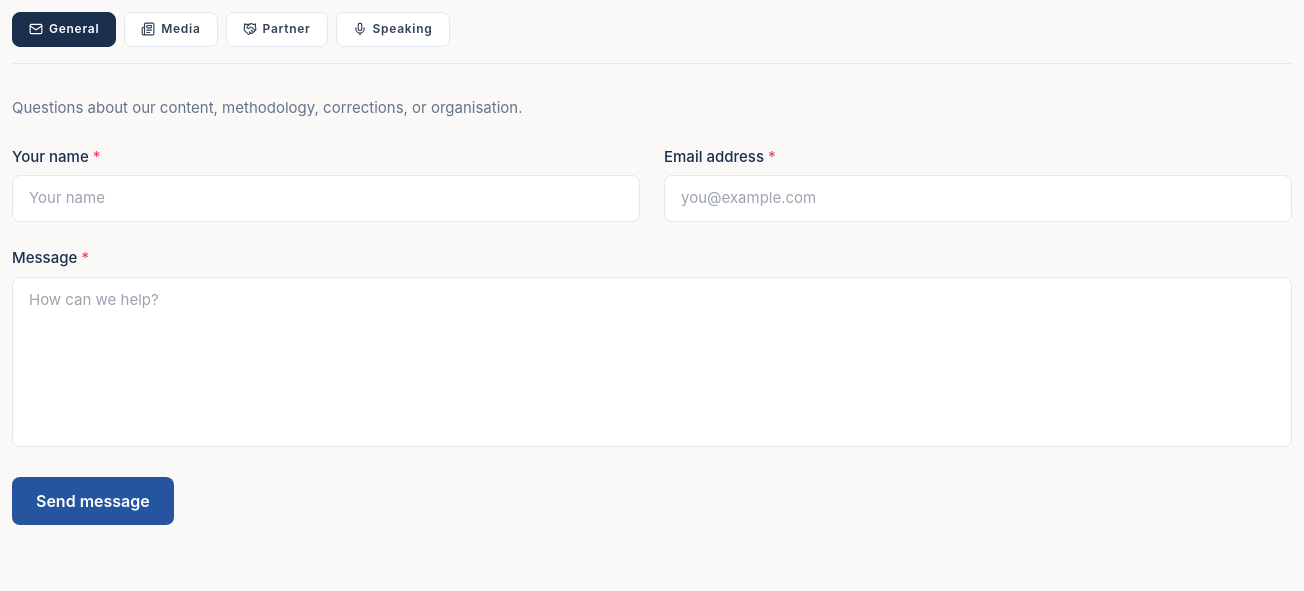
it: ContactForms › shows error state on failed submission
This screenshot has width=1304, height=591.
Type "Alice" into the field labelled "Your name*" at [326, 199], box [12,175,640,222]
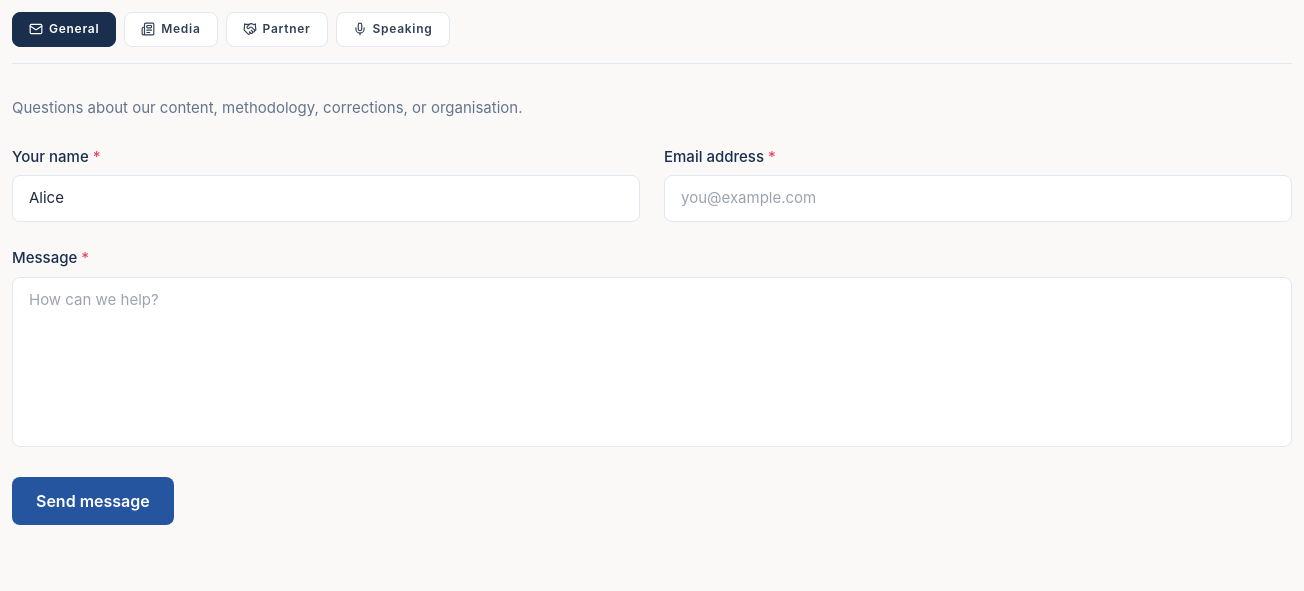
Type "alice@example.com" into the field labelled "Email address*" at [978, 199], box [664,175,1292,222]
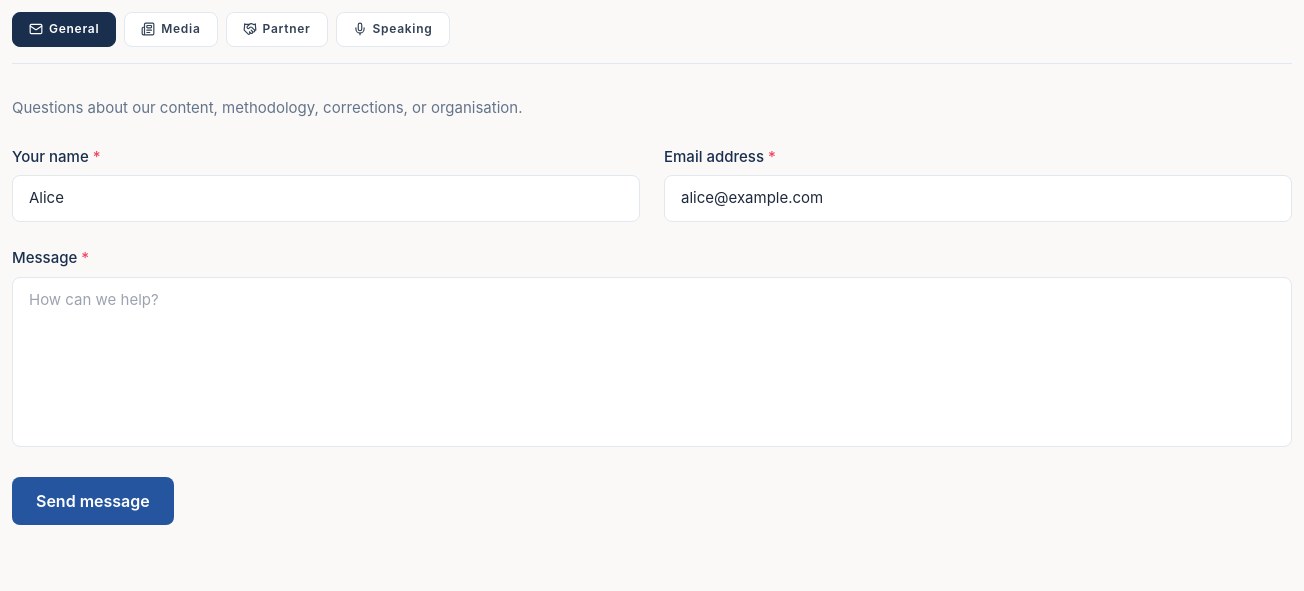
Type "Hello" into the text box labelled "Message*" at [652, 362], box [12,277,1292,447]
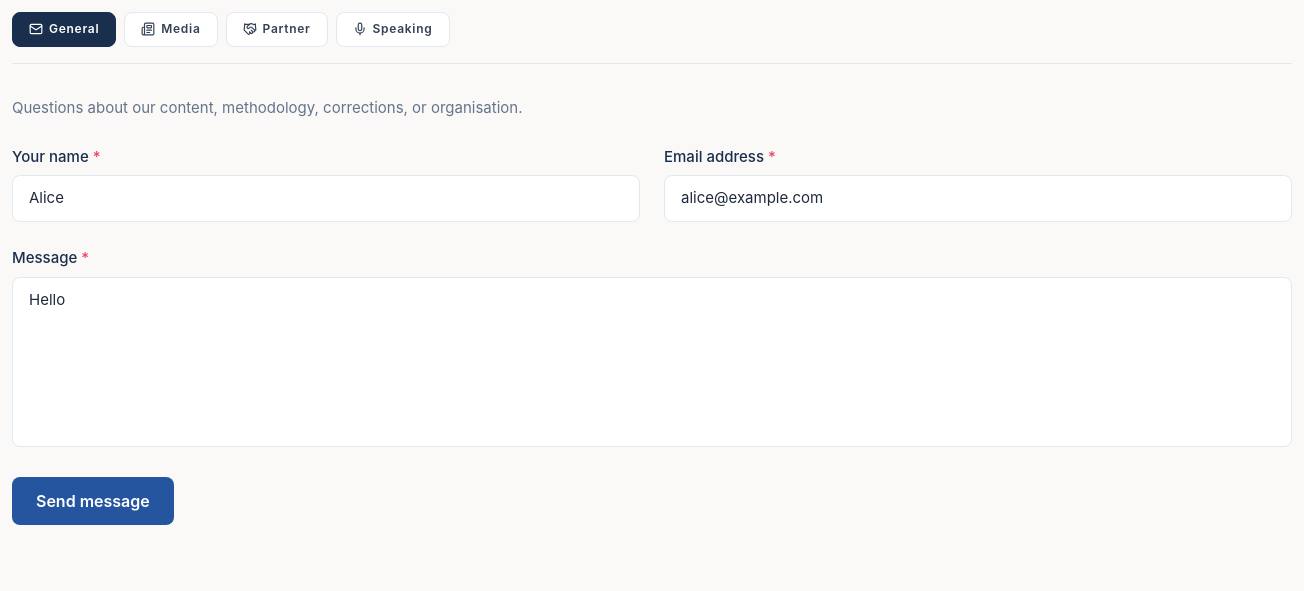
Click the button "Send message" at [93, 501], box [12,477,174,525]
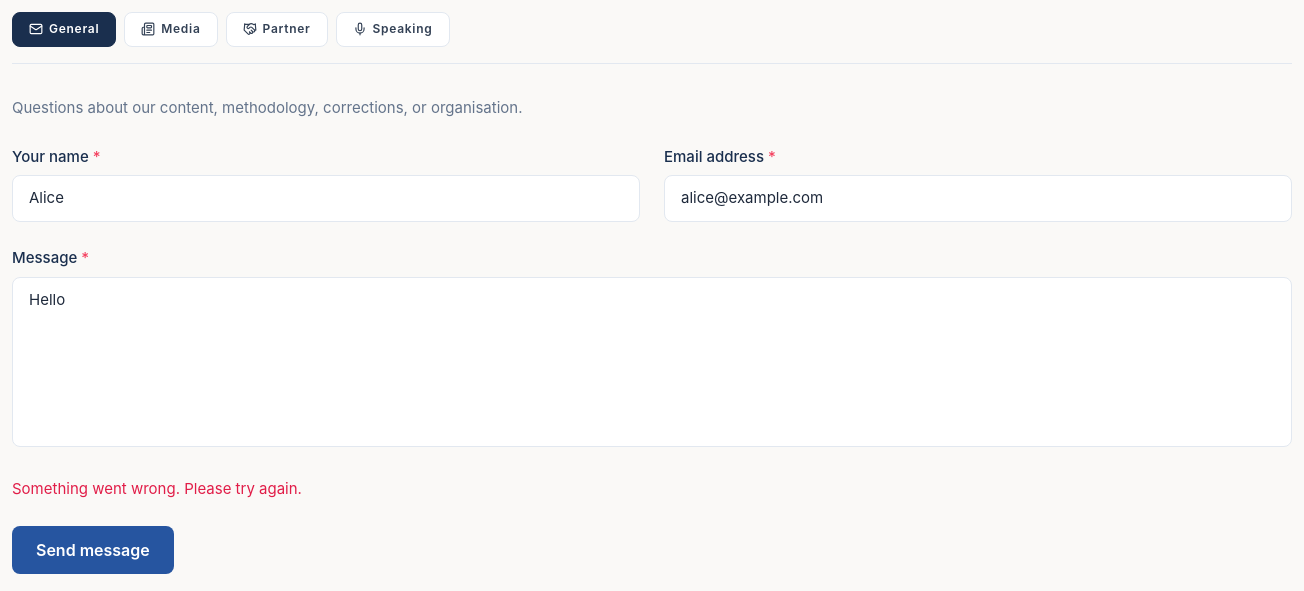
Now the text "Something went wrong. Please try again." is shown, box [12,479,302,498]
